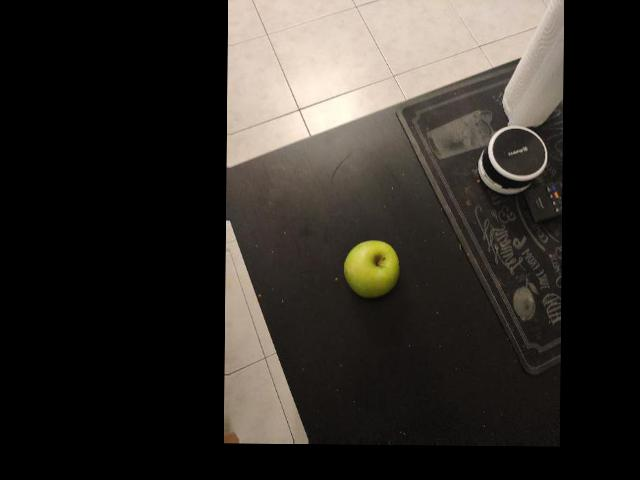apple: (248, 103, 333, 180)
